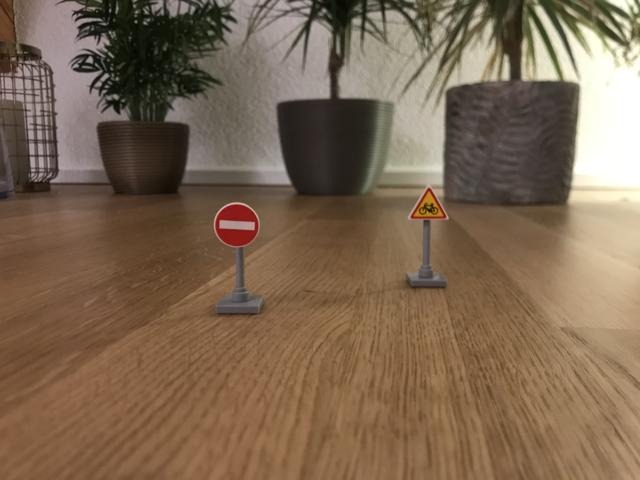radfahrer: (408, 185, 449, 221)
verbot der einfahrt: (213, 201, 262, 249)
